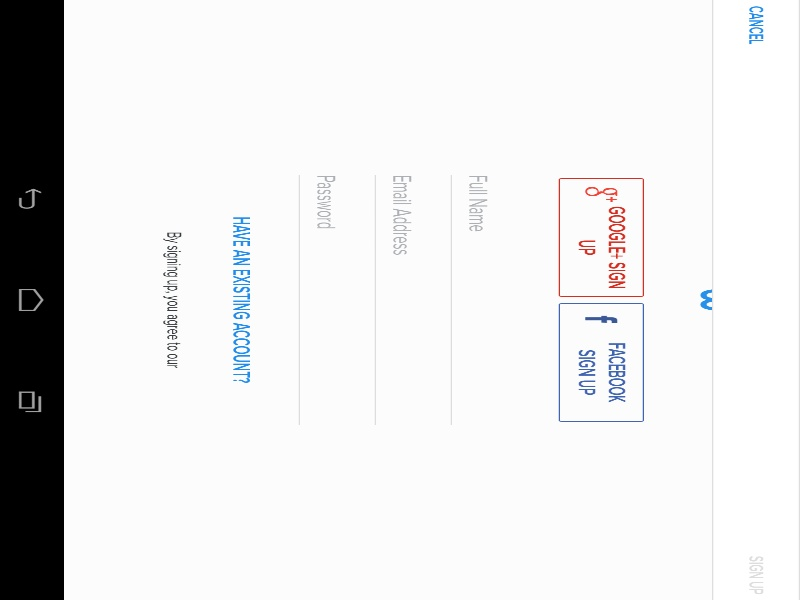Button: (380, 73, 633, 113), (10, 3, 96, 37)
